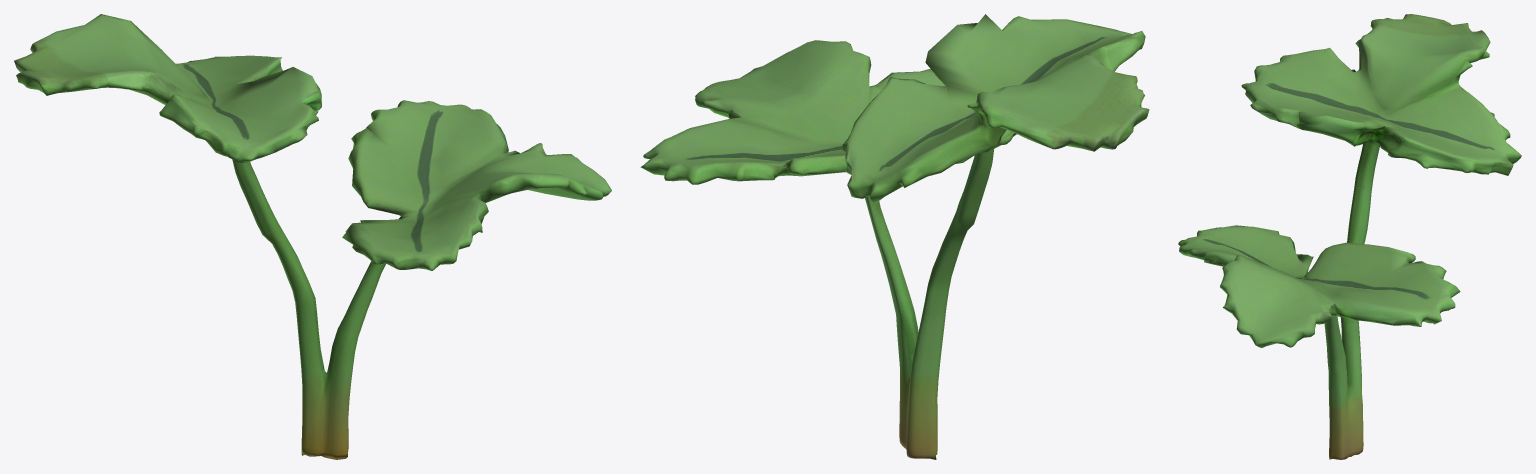
File: strawberry_s.glb
3 renders of one model, left to right at view 1: azimuth 30°, elevation 25°; view 2: azimuth 150°, elevation 25°; view 3: azimuth 270°, elevation 25°, orthographic. The views are drawn at different scales.
Size of the model in its own units: 2 by 1.64 by 1.46.
Materials: 1 (1 with a texture image).
